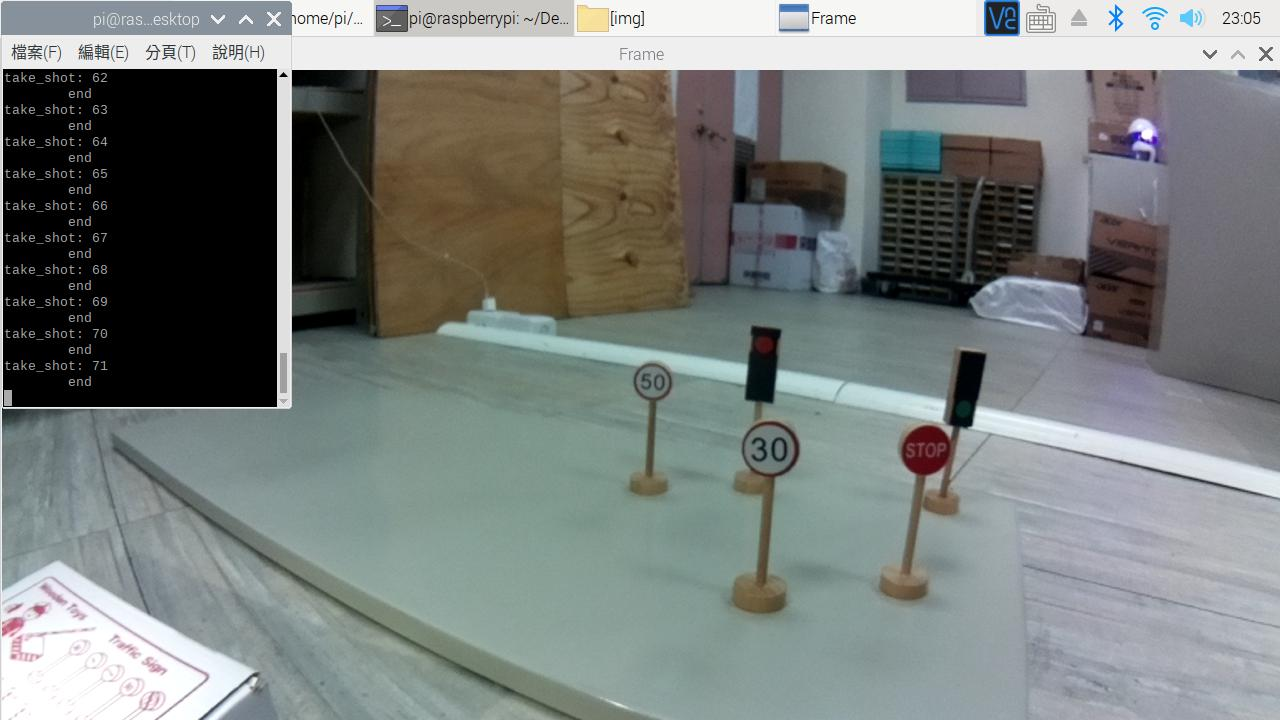Green: (947, 343, 993, 437)
Red: (737, 322, 788, 408)
Speed30: (739, 412, 803, 485)
Speed50: (632, 362, 678, 404)
Stop: (899, 419, 958, 481)
